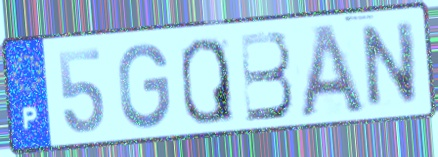5: (55, 45, 107, 136)
A: (298, 21, 369, 121)
B: (237, 28, 297, 125)
G: (116, 40, 172, 132)
N: (361, 17, 420, 111)
Q: (178, 35, 237, 127)
